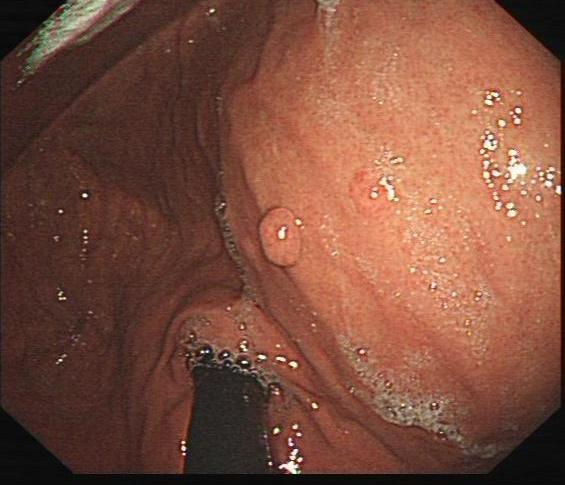Polyp: (337, 159, 396, 215), (254, 204, 307, 264)
